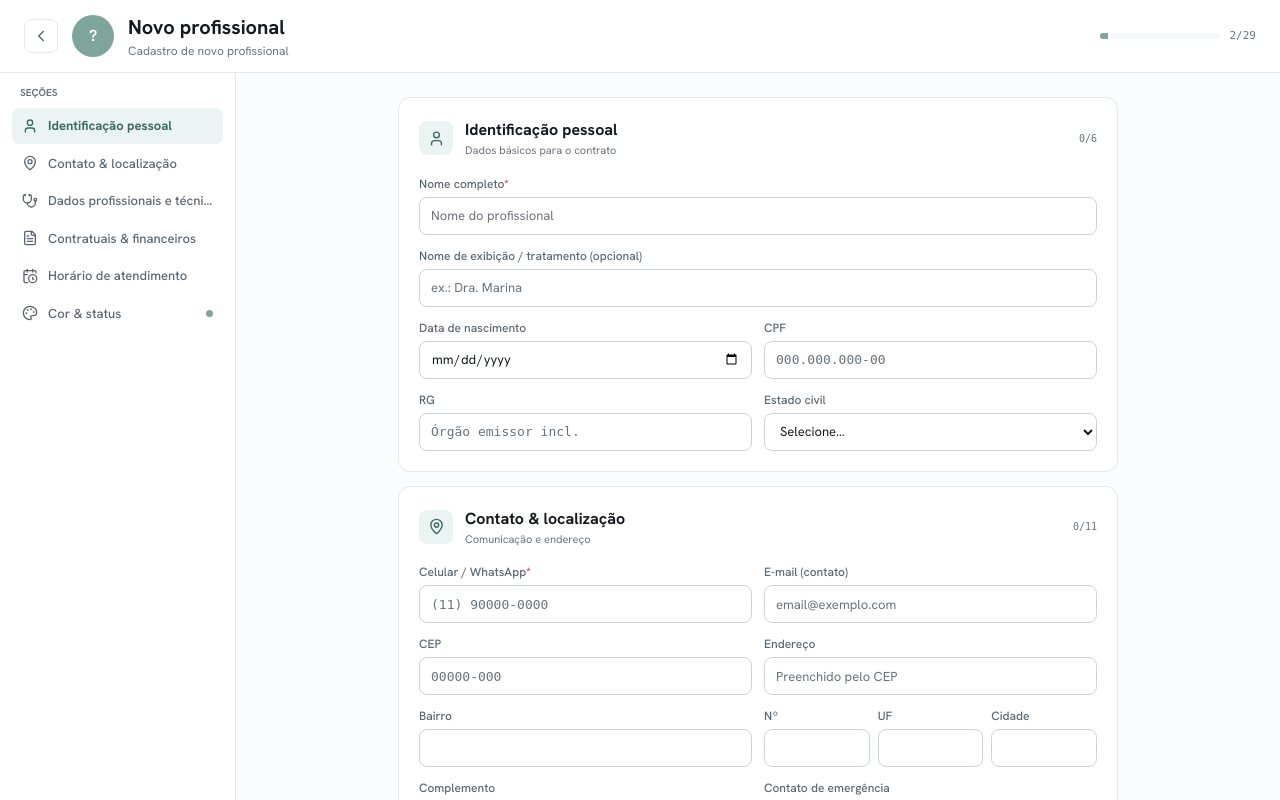
Test case: ProfessionalForm — novo › a ficha (hidden) reflete nome, segue-clínica e cor padrão
This screenshot has width=1280, height=800.
Type "Marina" into the field with placeholder "Nome do profissional" at (758,216), box [419,196,1097,234]
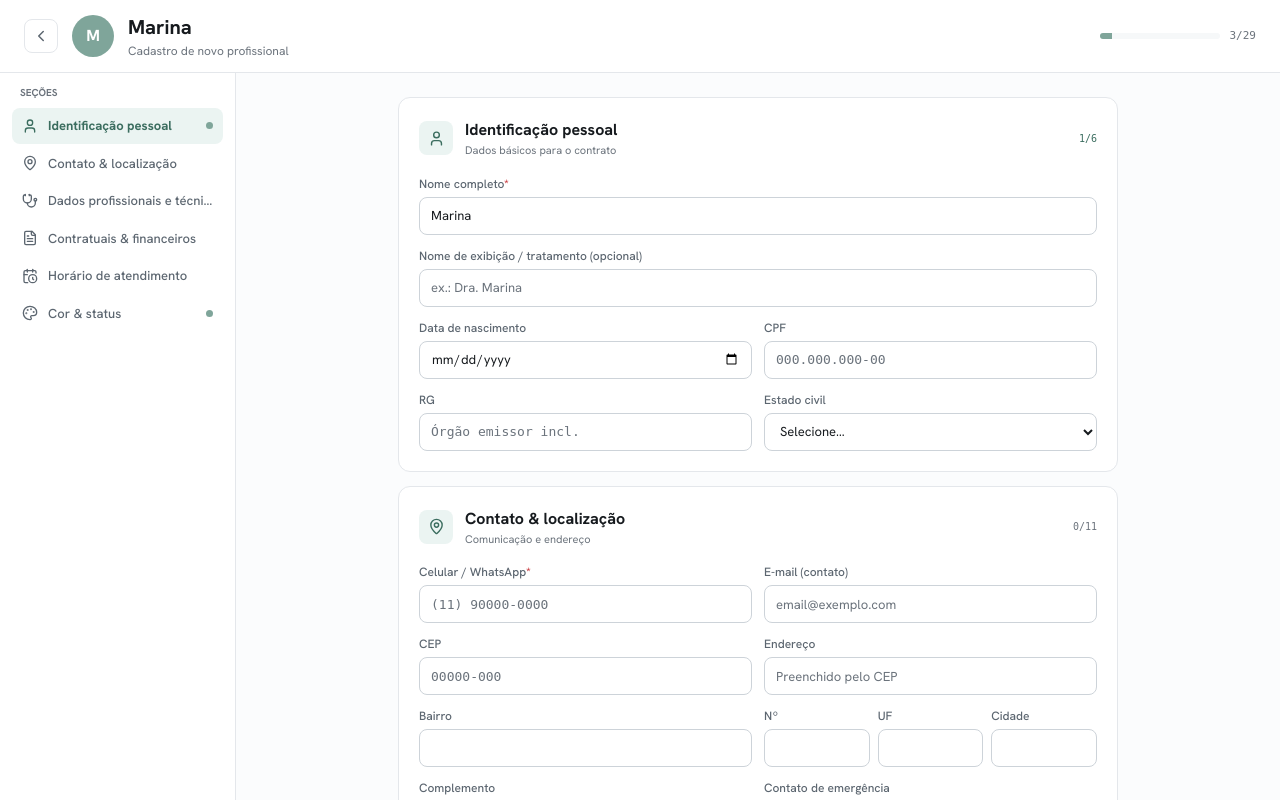
expect the text "Marina" is shown: met, box [128,14,192,40]
